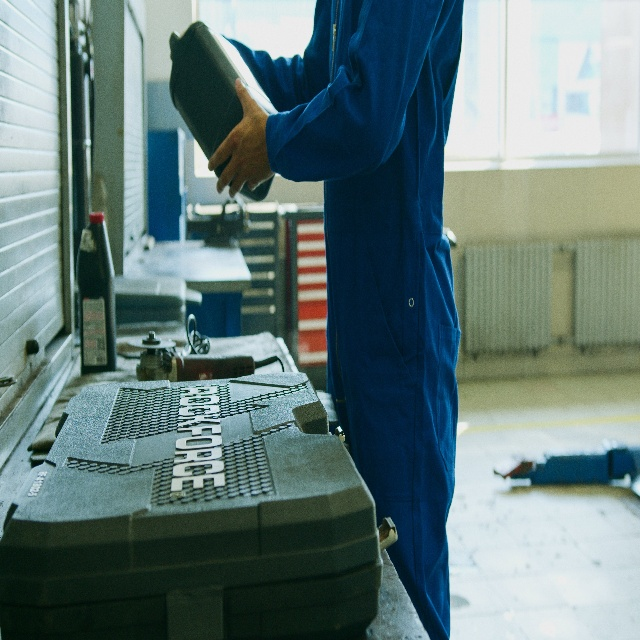Sin_guantes: (208, 77, 274, 200)
